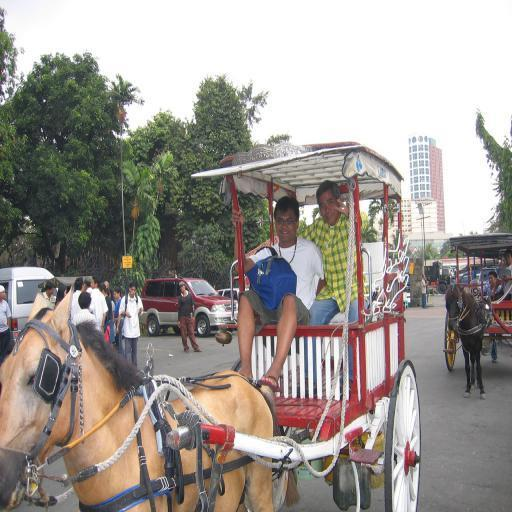horse: (0, 283, 301, 512), (444, 282, 486, 400)
